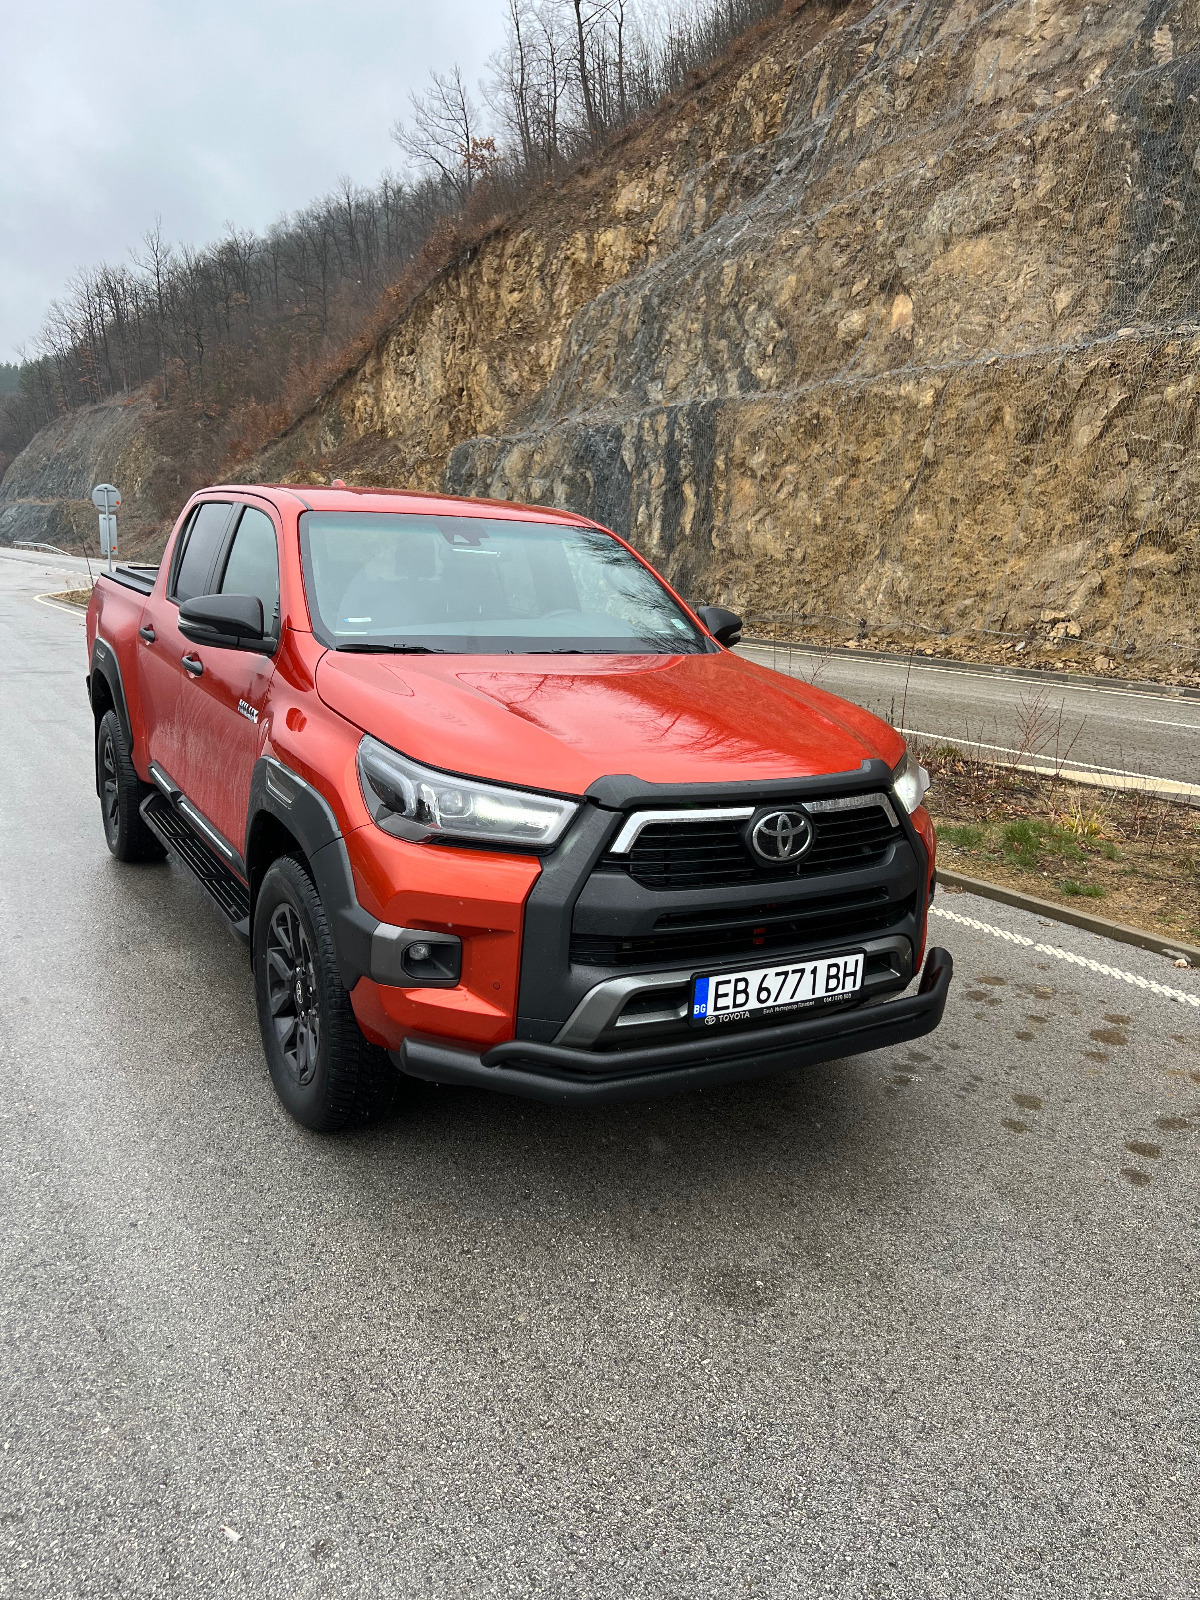registration_plate: (689, 953, 869, 1029)
